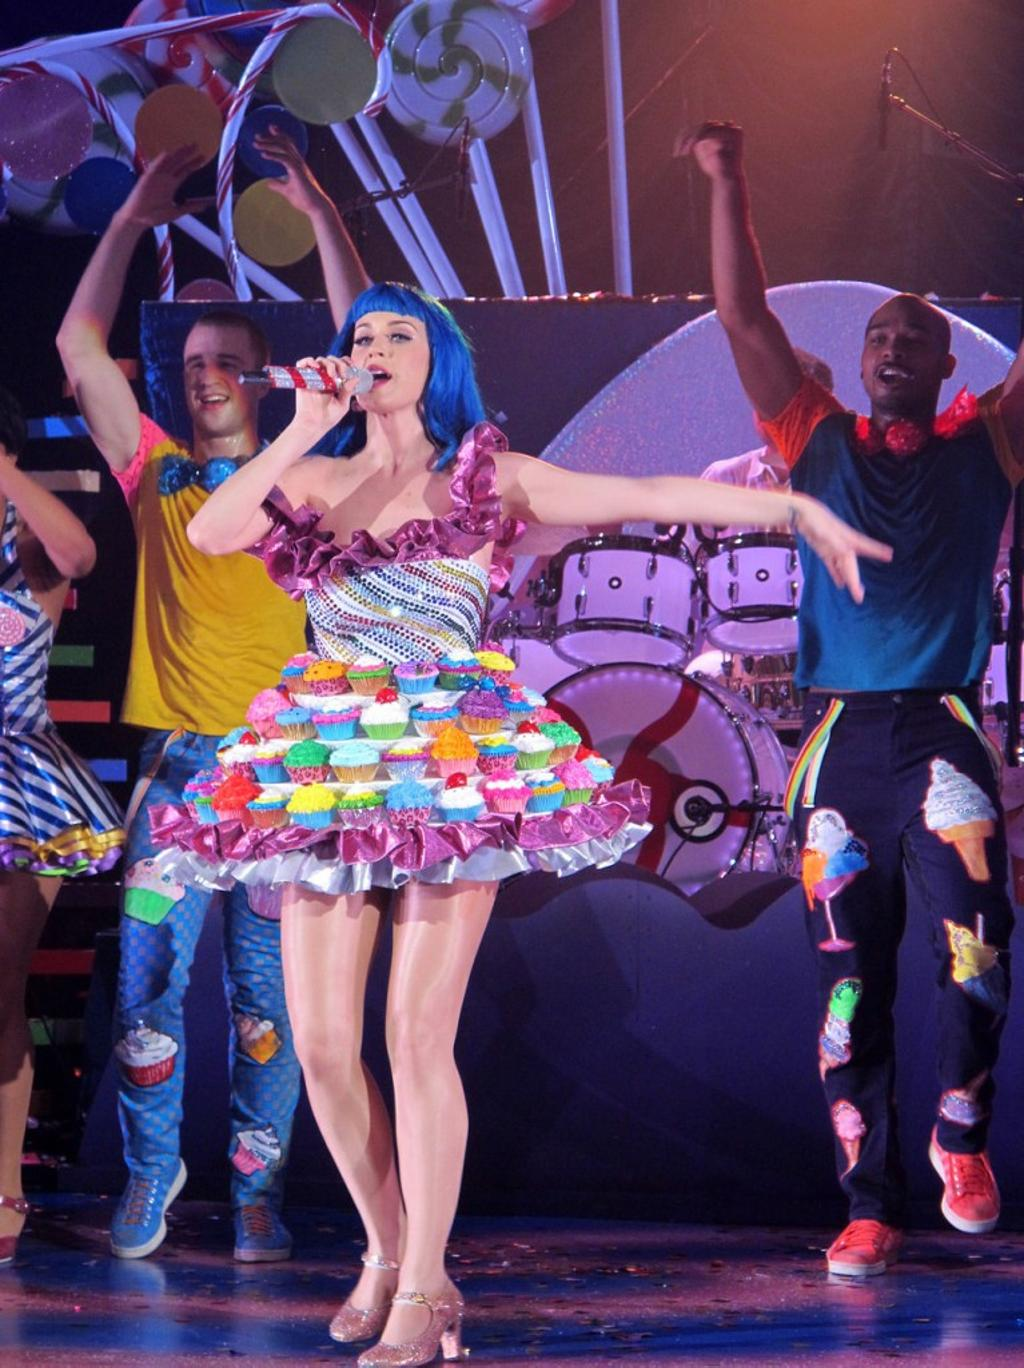face: (184, 317, 259, 432), (344, 307, 429, 408), (861, 307, 946, 408)
